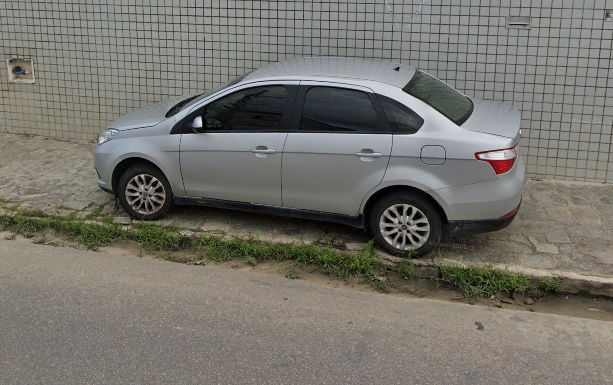car: (88, 45, 528, 265)
